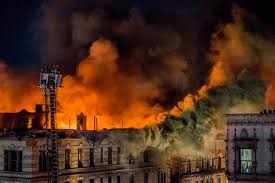smoke: (47, 1, 274, 104)
